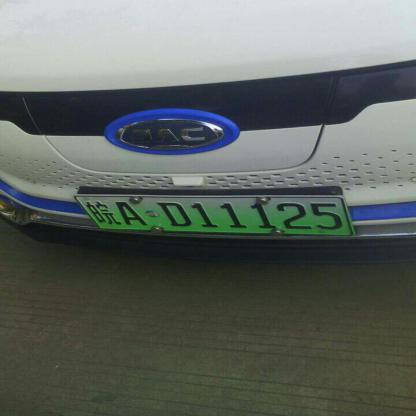lp: (75, 195, 353, 232)
